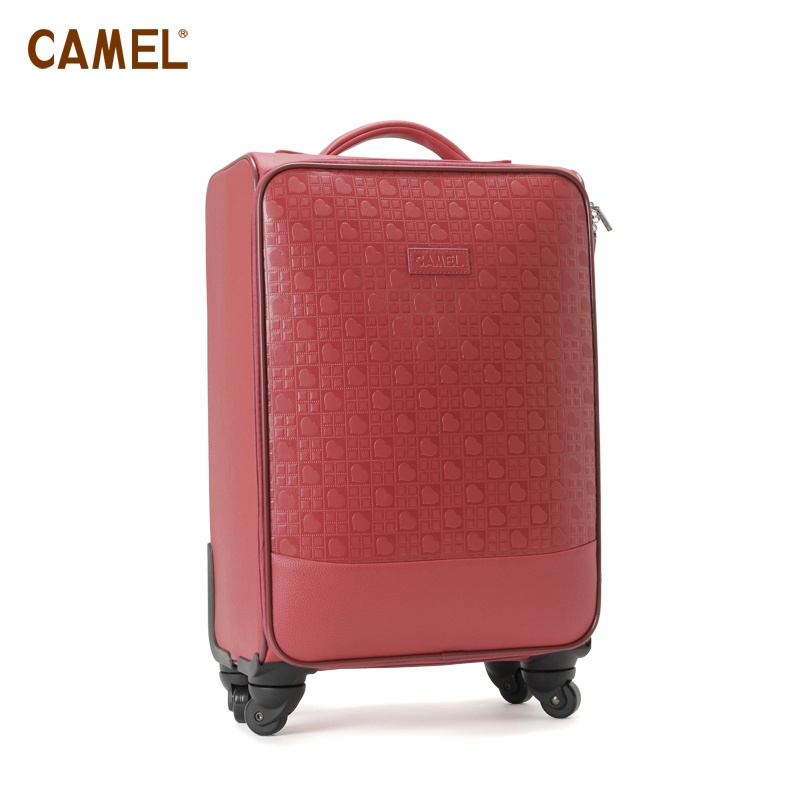luggage: (202, 120, 613, 736)
